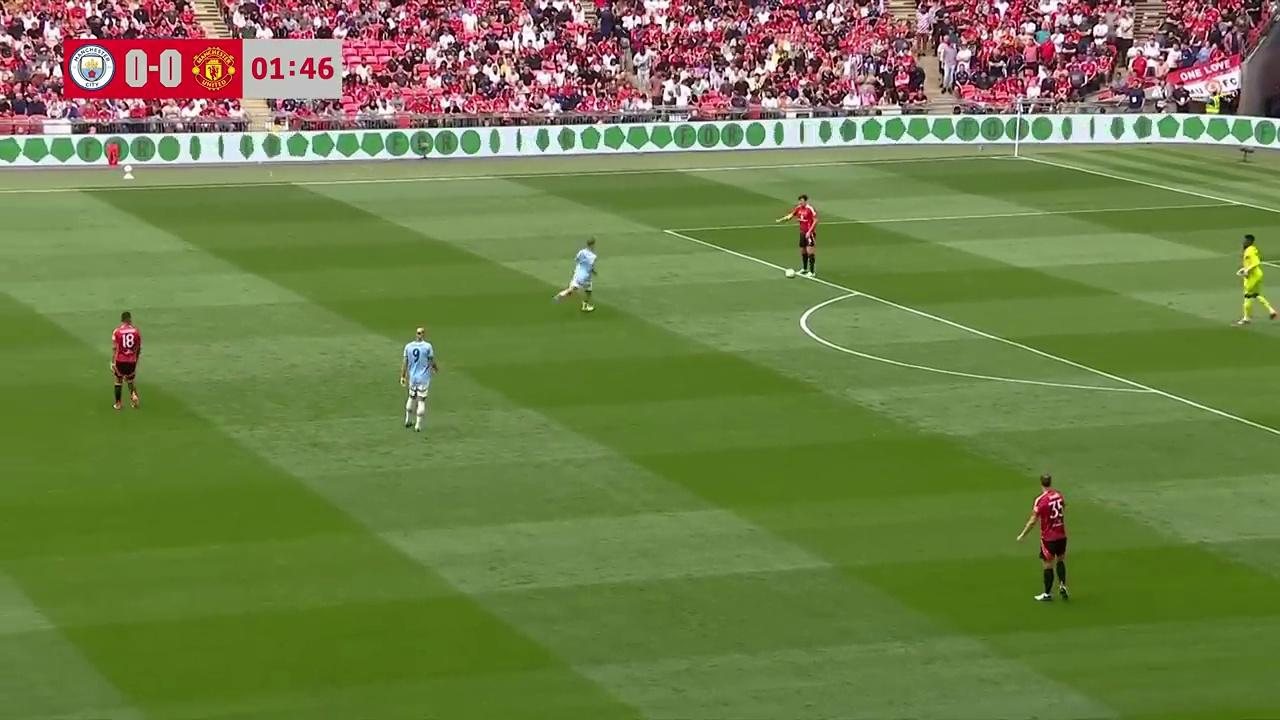ball: (783, 264, 794, 277)
player: (1017, 473, 1070, 603), (1234, 236, 1278, 325), (401, 330, 437, 430), (554, 238, 598, 312), (111, 311, 142, 411), (779, 193, 816, 275)
